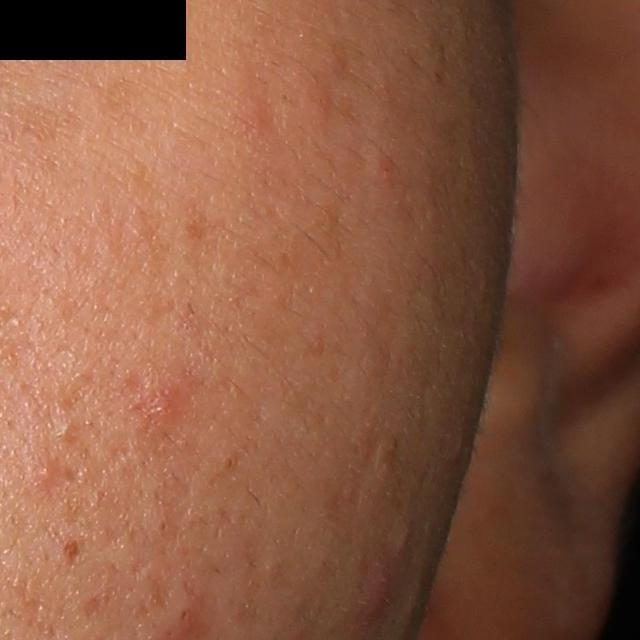comedo: (54, 420, 78, 443)
melasma: (11, 97, 73, 146)
papule: (142, 375, 187, 423), (358, 563, 392, 622), (36, 462, 58, 485)
